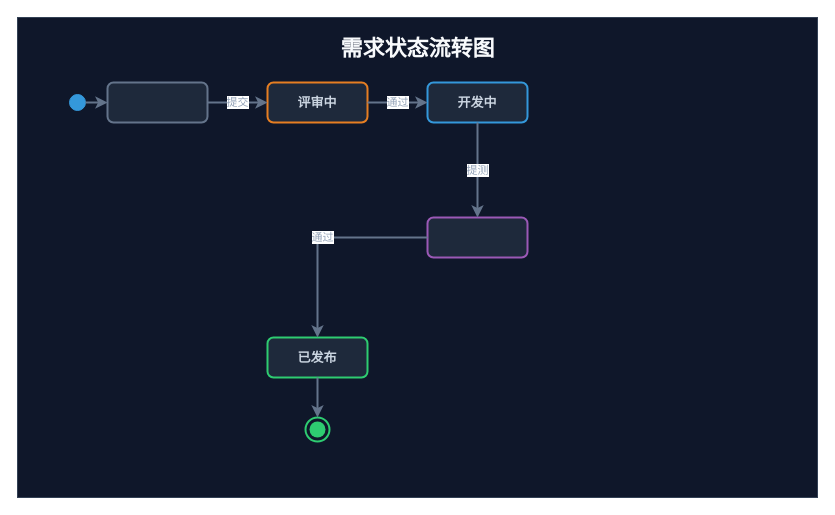
Some shapes in this 835 by 515 pixel diagram are drawn without their labels. Each missing label, with the centre of its shape:
测试中: the point at 477,237
草稿: the point at 157,102
